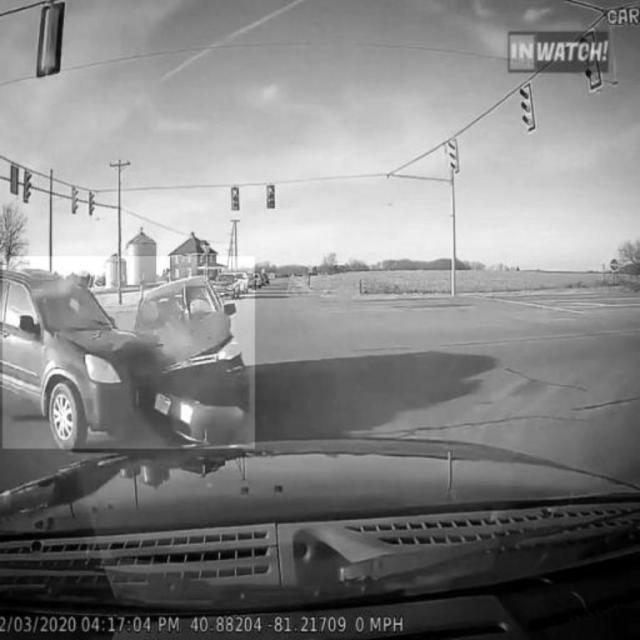accident: (2, 257, 254, 449)
